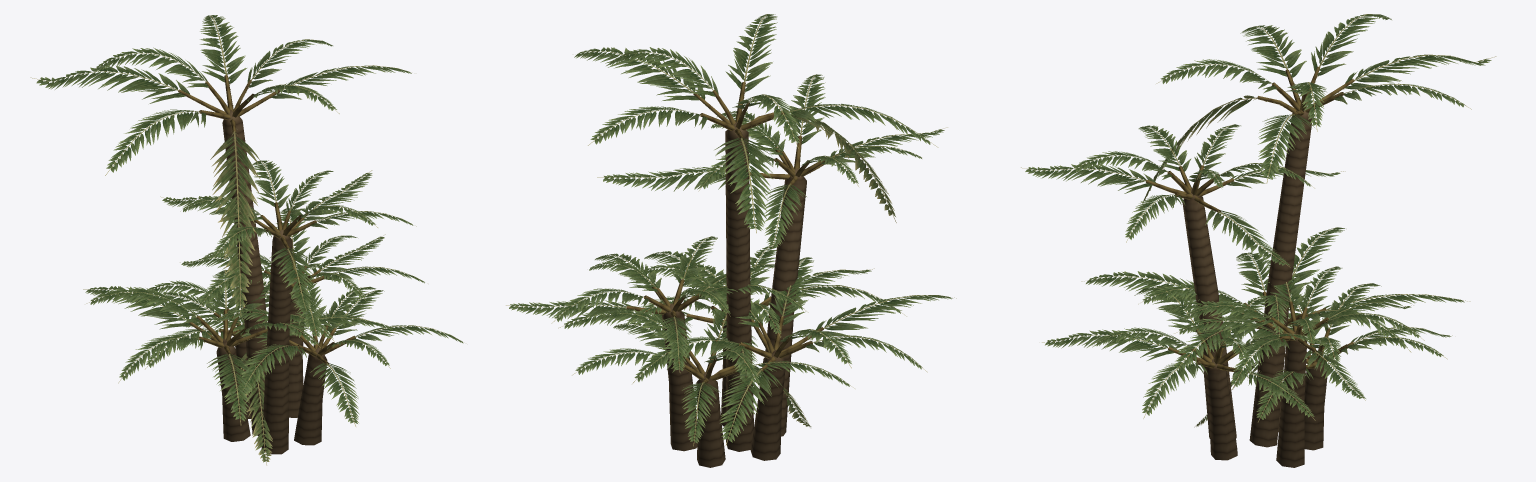
The model's file is hental_a.glb.
The picture shows the model from 3 angles, left to right: view 1: azimuth 30°, elevation 25°; view 2: azimuth 150°, elevation 25°; view 3: azimuth 270°, elevation 25°; orthographic projection. The views are drawn at different scales.
Parts seen in each view (by area): view 1: leaves, wood; view 2: leaves, wood; view 3: leaves, wood.
Part boxes in pixels (x1,y1,x2,y2): leaves: [30, 15, 463, 465]; wood: [178, 75, 355, 454]; leaves: [506, 14, 956, 446]; wood: [626, 82, 837, 467]; leaves: [1021, 14, 1496, 427]; wood: [1146, 66, 1354, 467].
Size of the model in its own units: 2.7 by 2.65 by 3.17.
Materials: 2 (2 with a texture image).
